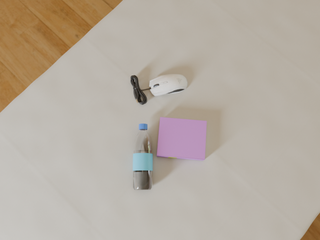book: (157, 117, 207, 161)
bottle: (133, 124, 152, 190)
mouse: (149, 74, 187, 96)
